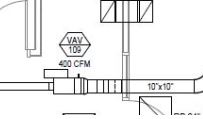VAV: (36, 66, 89, 100)
